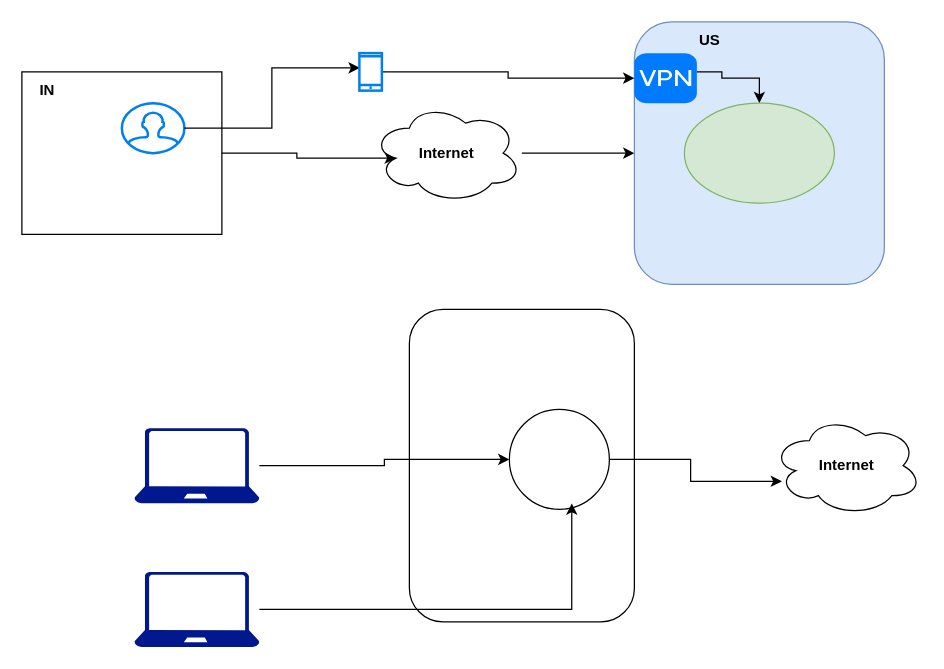
The diagram is 944 pixels wide and 669 high, and some of its shapes have lost their labels. Each missing label, with the centre of its shape:
"Cache" belongs at pixel 558 458.
"Prime" belongs at pixel 758 152.
